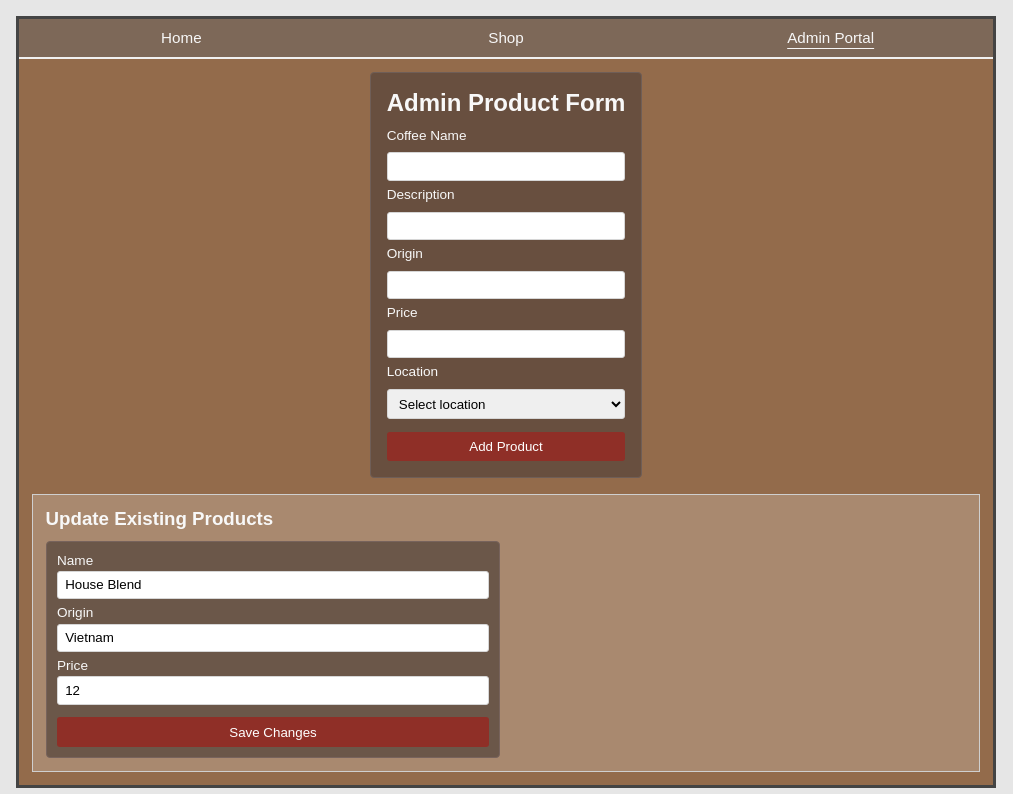
Admin interactions › edits a product and sends PATCH request
Expected: the heading "Update Existing Products" is shown, [46, 508, 273, 529]
Replace the text in the number field labelled "Price" below "Update Existing Products" with "15.5" at (273, 690), box [57, 676, 489, 705]
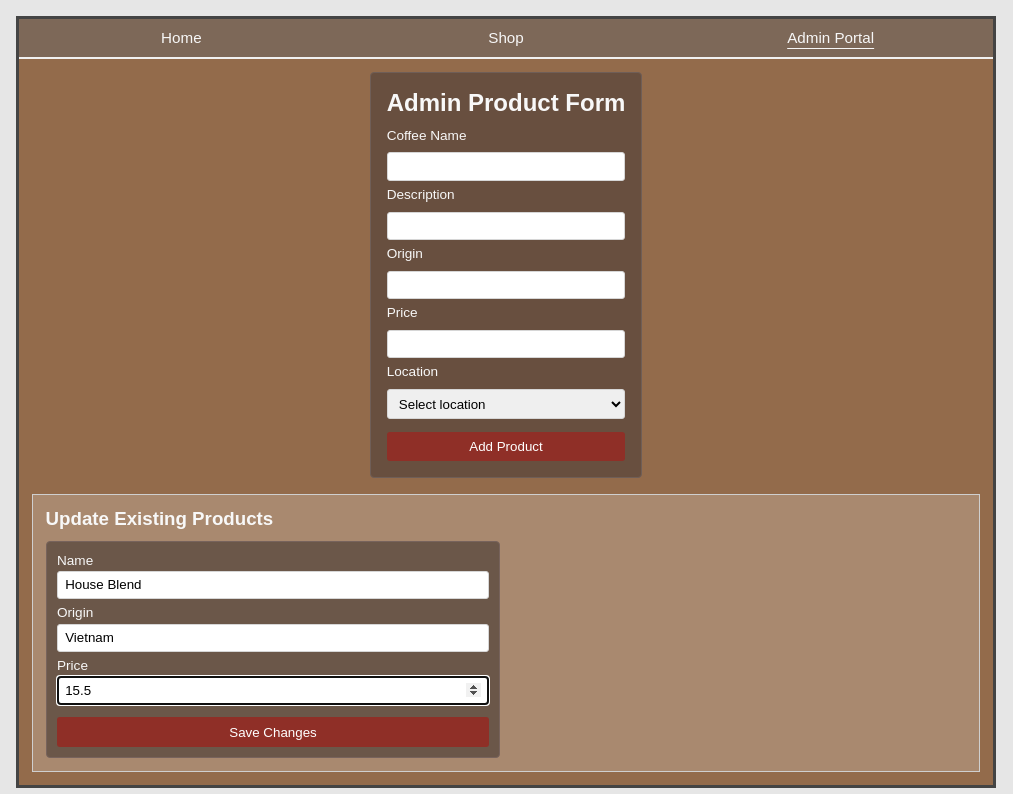
Click the button "Save Changes".
click(273, 732)  # box [57, 717, 489, 747]
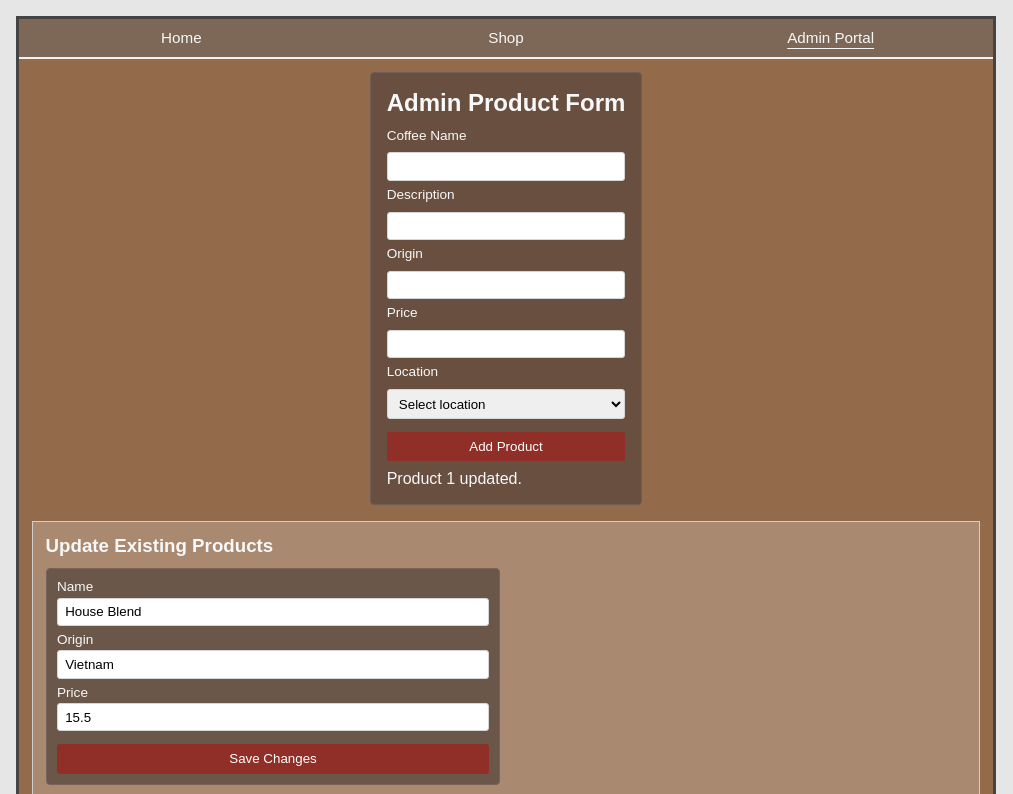
Expected: the text "Product 1 updated." is shown, [387, 470, 522, 487]
